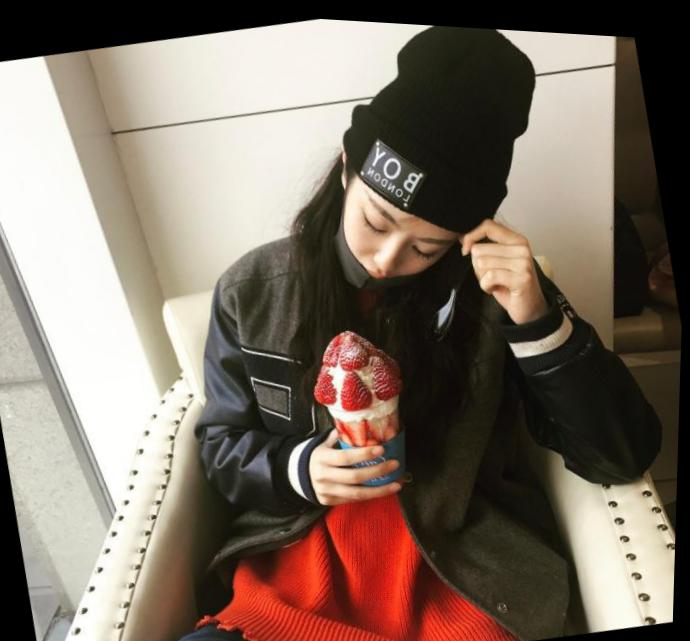WRONG: (330, 159, 463, 302)
